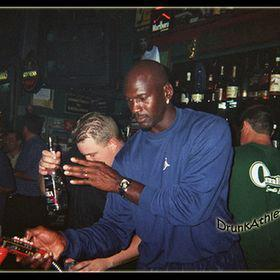Drunk: (126, 78, 163, 127)
